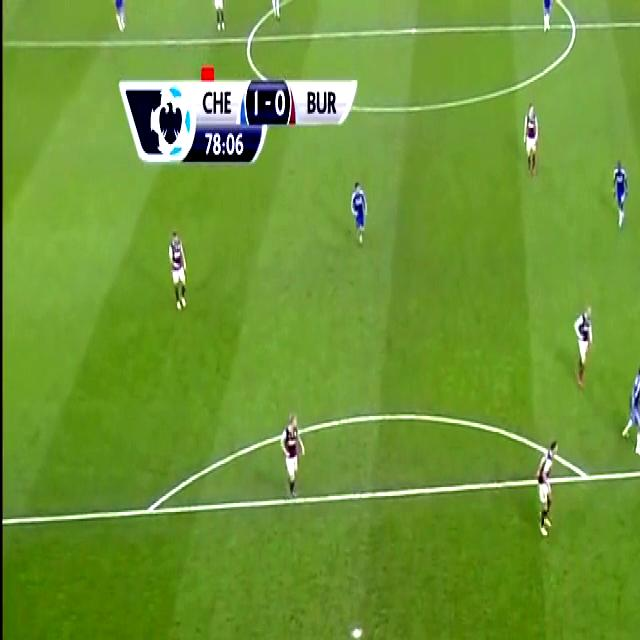soccer-player: (534, 434, 563, 542), (276, 402, 307, 497), (568, 296, 597, 393), (166, 222, 194, 316), (617, 352, 640, 457), (522, 94, 546, 180), (610, 151, 634, 237), (350, 178, 370, 250), (112, 0, 132, 34), (544, 0, 561, 36)
